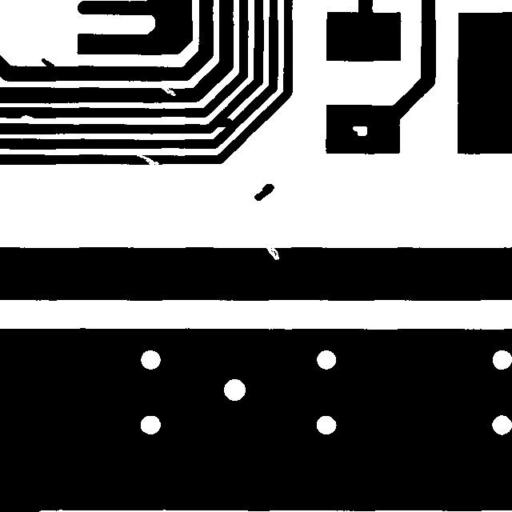copper: (246, 176, 282, 208)
mousebite: (258, 238, 286, 267), (153, 78, 183, 103)
open: (128, 146, 166, 172)
pin-hole: (216, 371, 253, 408), (345, 118, 374, 143)
short: (205, 110, 240, 134)
spur: (34, 50, 62, 76)
